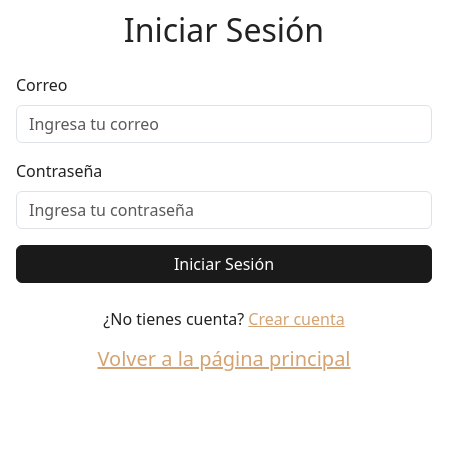
Test: SignIn Component › shows error if username or password is empty
// Ahora con fireEvent estamos haciendo click en el botón de iniciar sesión
Step 1. Click the button "Iniciar Sesión" → (224, 264), box left=16, top=245, right=432, bottom=283
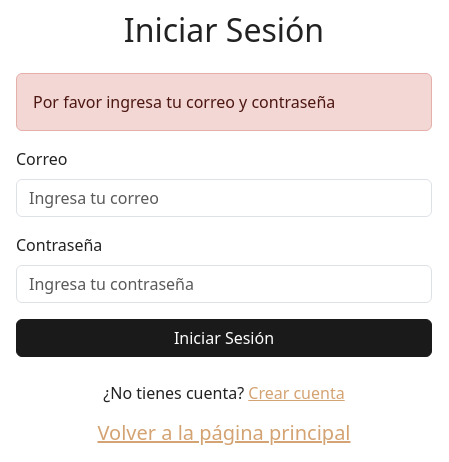
Now the message reads "Por favor ingresa tu correo y contraseña", box left=33, top=91, right=335, bottom=113
